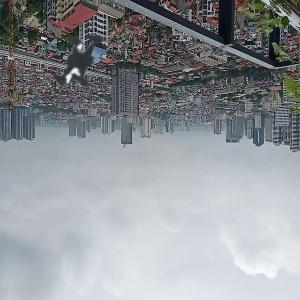drone: (20, 1, 143, 124)
